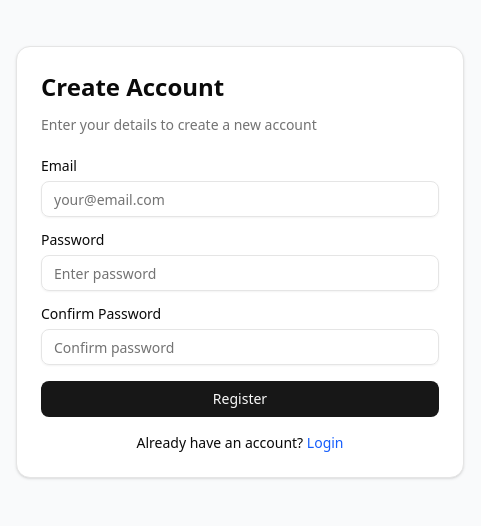
Test case: Register Page › displays error message on registration failure
Type "test@example.com" into the field labelled "Email". click: (240, 199)
box: [41,181,439,217]
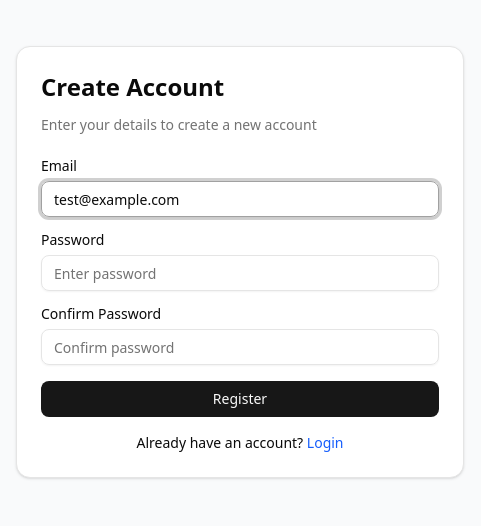
Type "password123" into the password field labelled "Password". click: (240, 273)
box: [41,255,439,291]
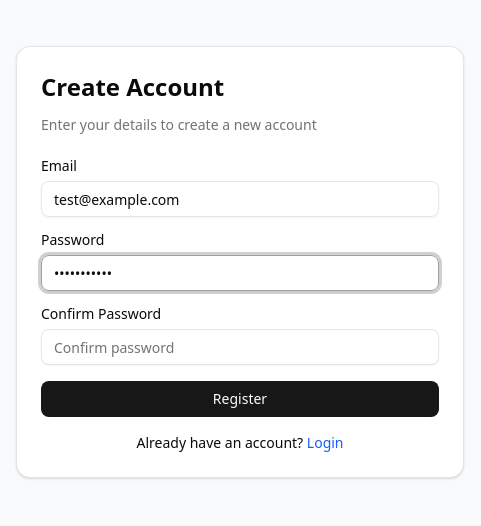
Type "password123" into the password field labelled "Confirm Password". click: (240, 347)
box: [41,329,439,365]
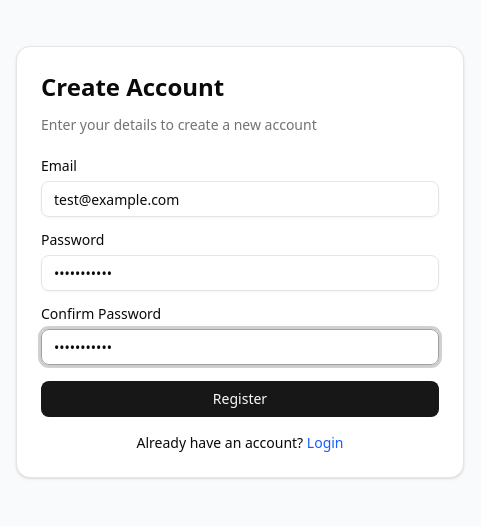
Click the button "Register". click: (240, 399)
box: [41,381,439,417]
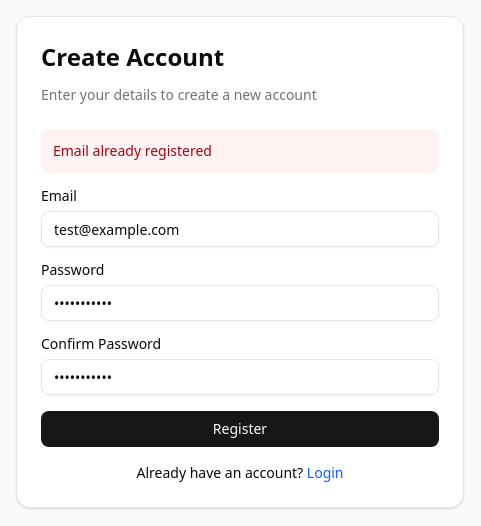
Expected: the text "Email already registered" is shown, [41,129,439,173]
